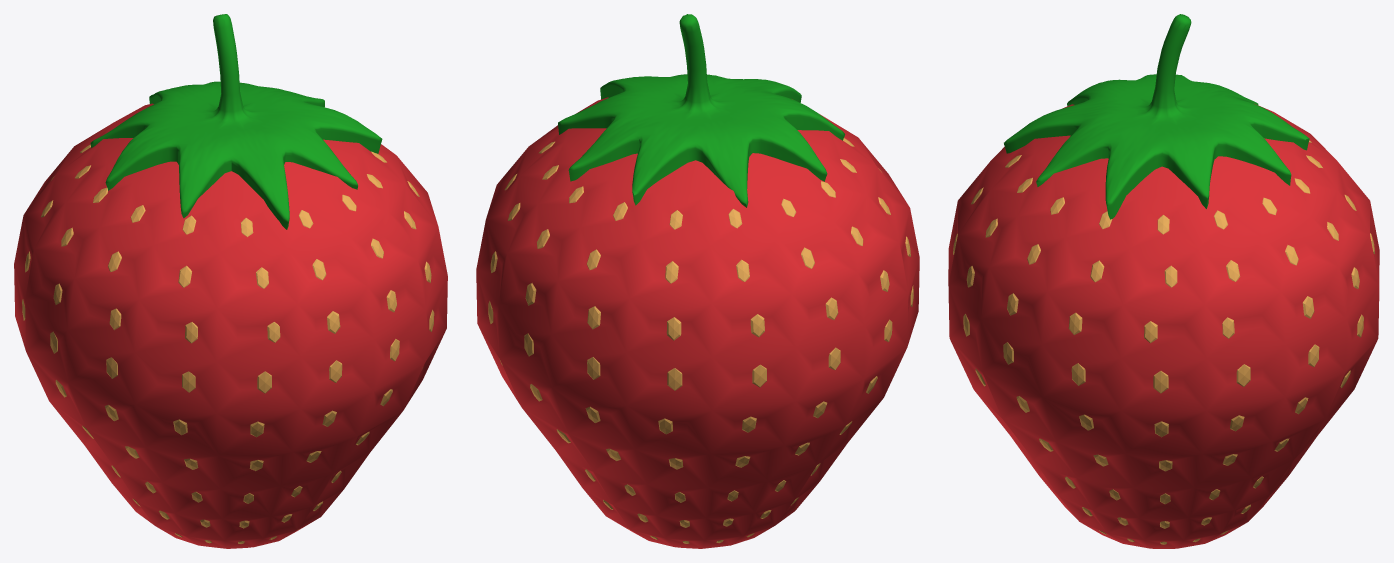
The model's file is P_Strawberry.fbx.
3 views of the same model, side by side, from view 1: azimuth 30°, elevation 25°; view 2: azimuth 150°, elevation 25°; view 3: azimuth 270°, elevation 25° (orthographic). The views are drawn at different scales.
Parts seen in each view (by area): view 1: P_Strawberry; view 2: P_Strawberry; view 3: P_Strawberry.
Boxes of the visible parts, <box> form: P_Strawberry: <box>14,14,447,548</box>; P_Strawberry: <box>476,14,919,548</box>; P_Strawberry: <box>948,14,1379,548</box>.
Bounding box in the file's own units: 806 × 1077 × 806.
